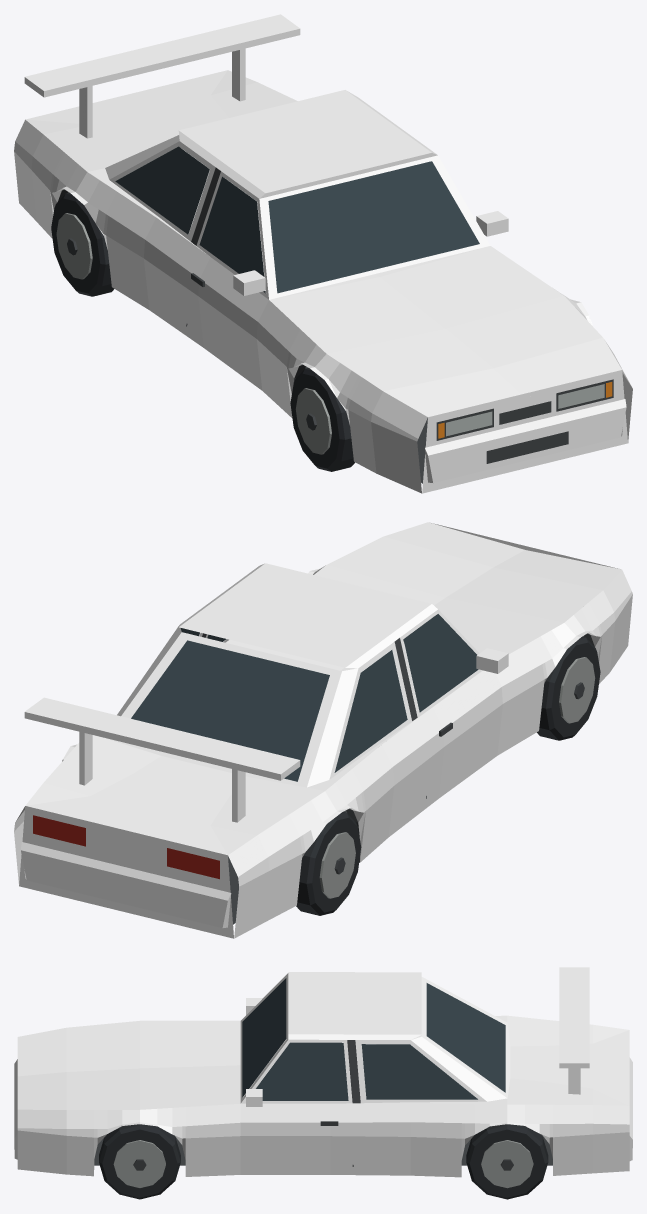
The model's file is hayase_yaiba_corrida.glb.
The picture shows the model from 3 angles, top to bottom: view 1: azimuth 30°, elevation 25°; view 2: azimuth 150°, elevation 25°; view 3: azimuth 270°, elevation 25°; orthographic projection. The views are drawn at different scales.
Visible parts, largest first — view 1: hayase_yaiba_corrida; view 2: hayase_yaiba_corrida; view 3: hayase_yaiba_corrida.
Boxes of the visible parts, <box> form: hayase_yaiba_corrida: <box>14,14,632,493</box>; hayase_yaiba_corrida: <box>14,522,632,938</box>; hayase_yaiba_corrida: <box>14,967,632,1199</box>.
Size of the model in its own units: 1.76 by 1.2 by 4.53.
Materials: 8 (1 with a texture image).
